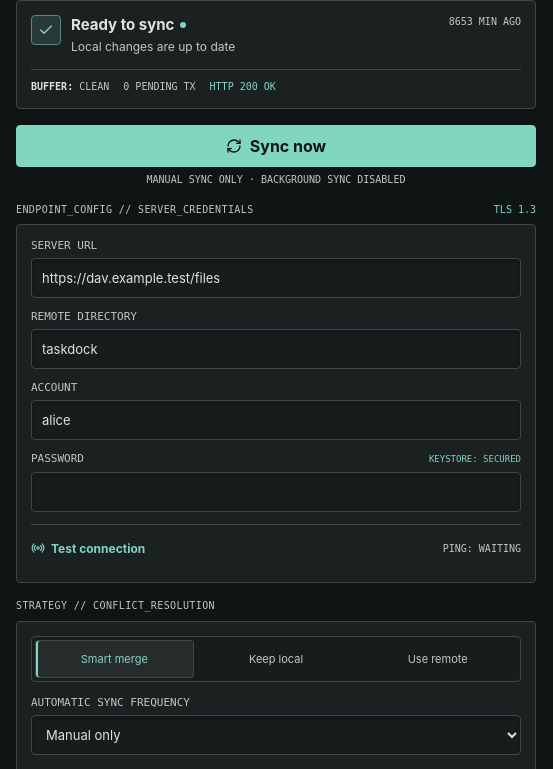
shows immediate sync feedback below the status card
This screenshot has width=553, height=769.
Click the button "Sync now" at (276, 146), box [16,125,536,167]
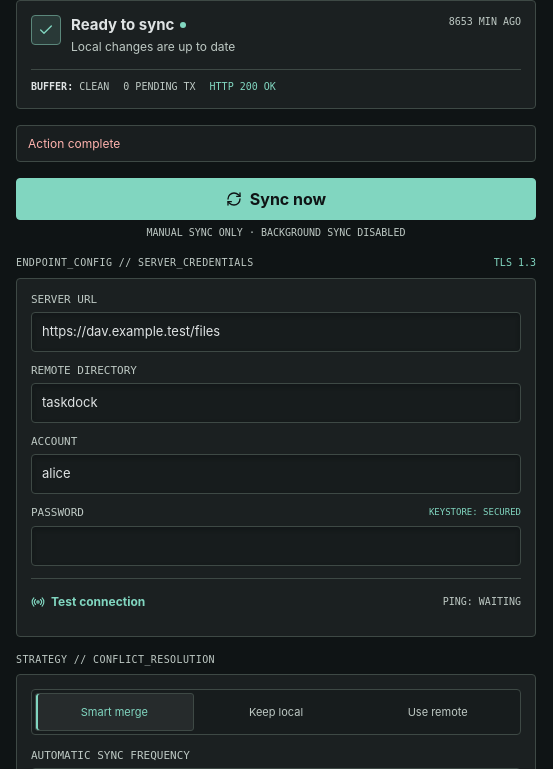
Expected: the message "Action complete" is shown, [16,125,536,162]
